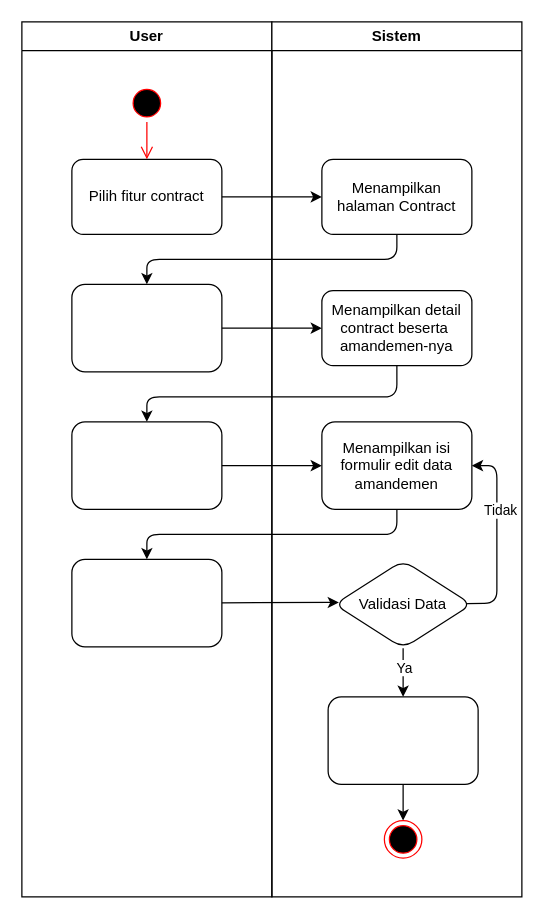
Image size: 544x919. Some labels were removed from this diagram. The centre of each missing label's shape, as x and y in pixels:
"Edit data amandemen" belongs at pixel 146 602.
"Memilih tombol edit (icon pen) pada salah satu data amandemen" belongs at pixel 146 465.
"Menyimpan perubahan data amandemen" belongs at pixel 402 740.
"Tekan tombol setting (detail contract) pada salah satu data contract" belongs at pixel 146 327.
